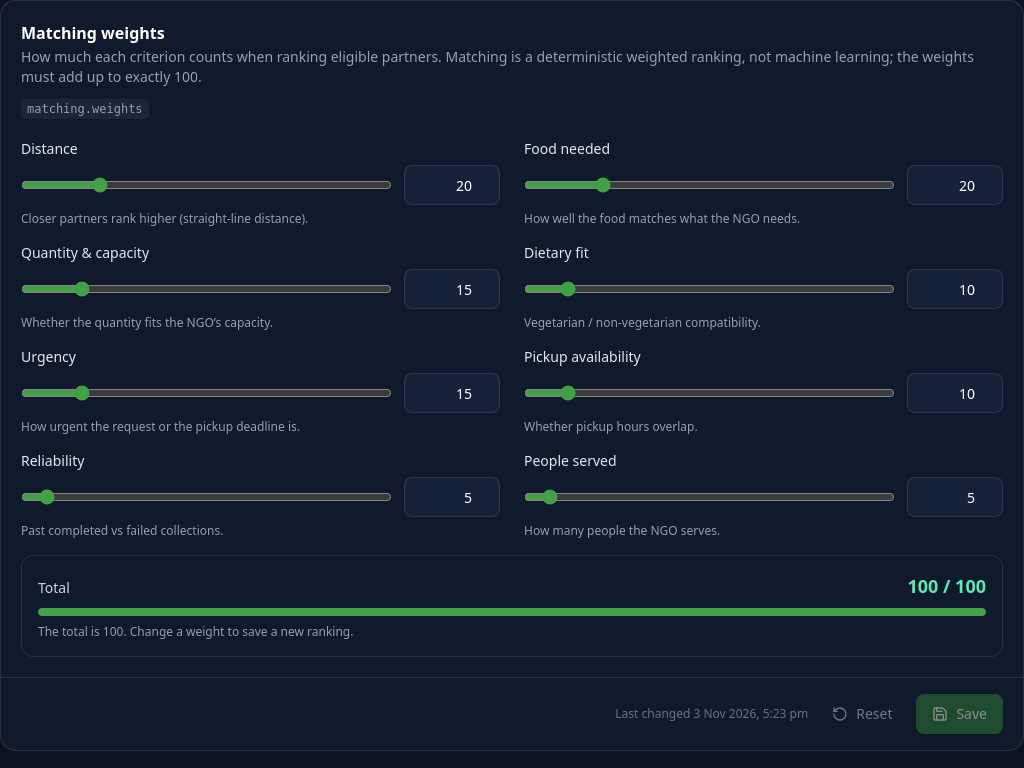
MatchingWeightsForm › shows server validation errors
Replace the text in the number field labelled "Distance" with "30" at [452, 185], box [404,165,500,205]
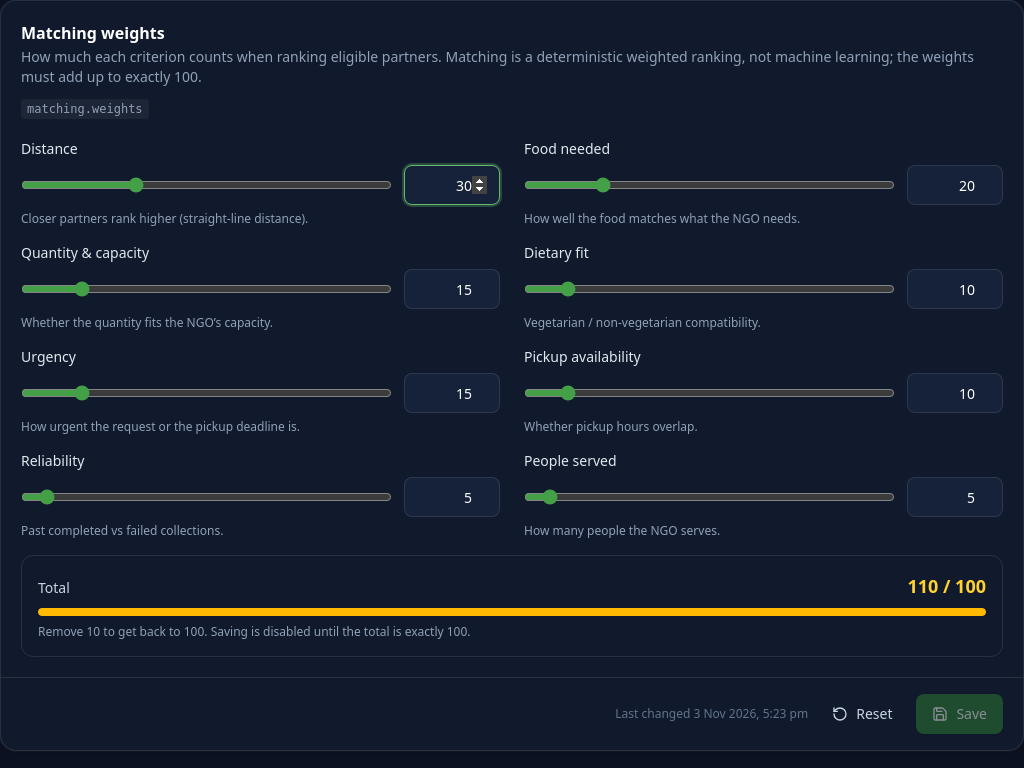
Replace the text in the number field labelled "Food needed" with "10" at [955, 185], box [907,165,1003,205]
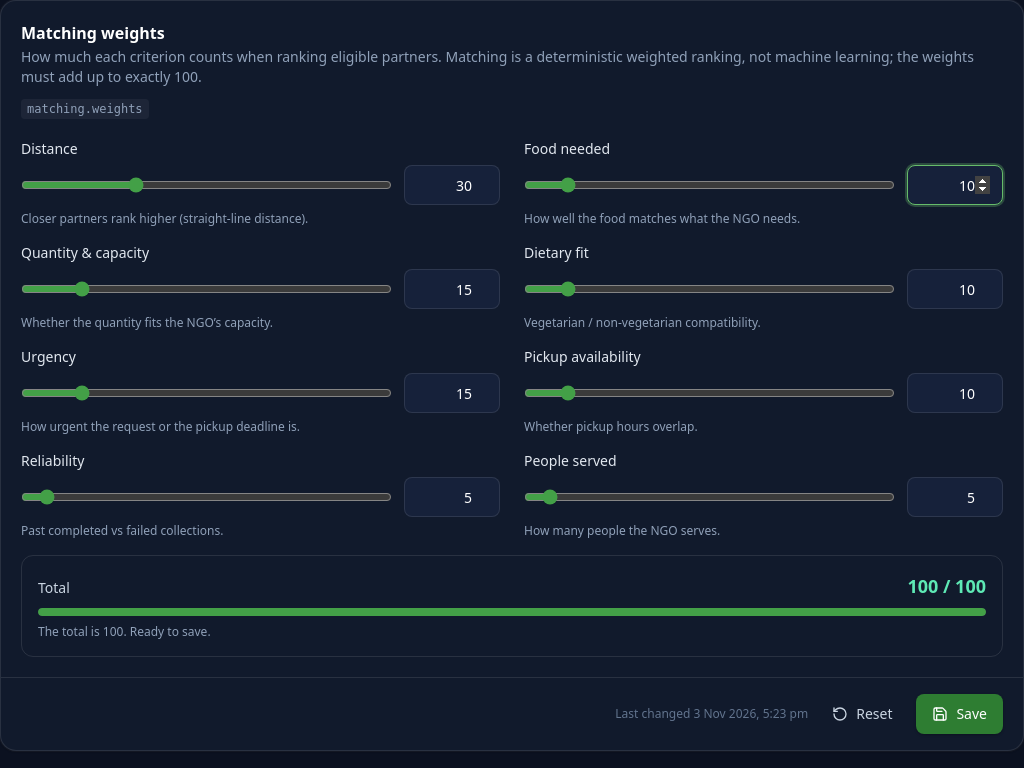
Click the button "Save".
click(960, 714)  # box [916,694,1003,734]
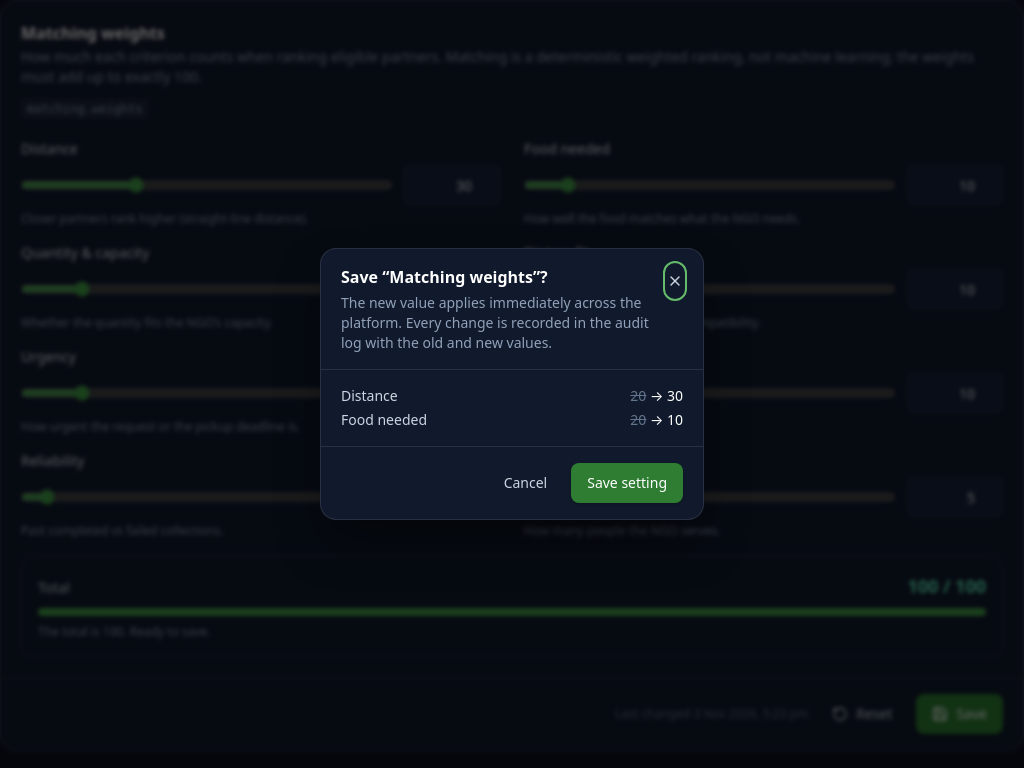
Click the button "Save setting".
click(627, 483)  # box [571,463,683,503]
(page scrolled)
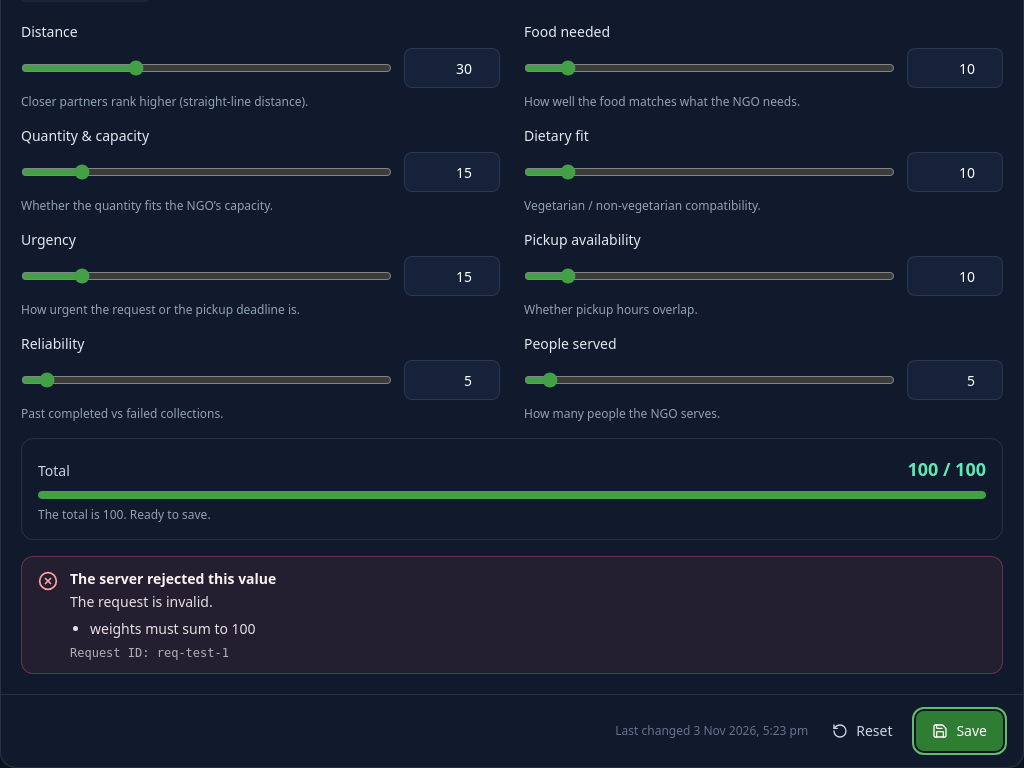
Check: the text "The server rejected this value" is shown, box [70,569,276,588]
Check: the list item "weights must sum to 100" is shown, box [90,619,256,638]
